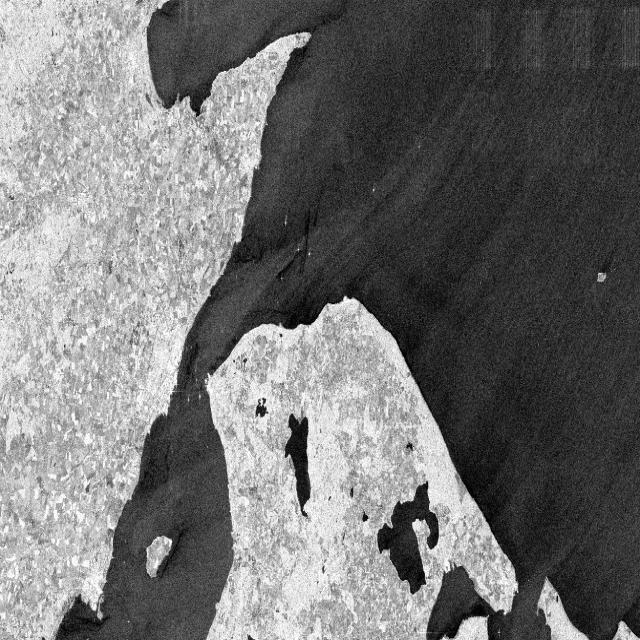look-alike: (431, 604, 485, 640), (54, 612, 110, 639), (229, 241, 268, 275), (163, 527, 186, 582), (308, 9, 346, 41), (280, 49, 309, 85), (212, 335, 238, 365), (186, 346, 198, 382)
oil-spill: (277, 204, 325, 287)
ship: (305, 244, 313, 262), (282, 213, 289, 232), (195, 391, 202, 406)
